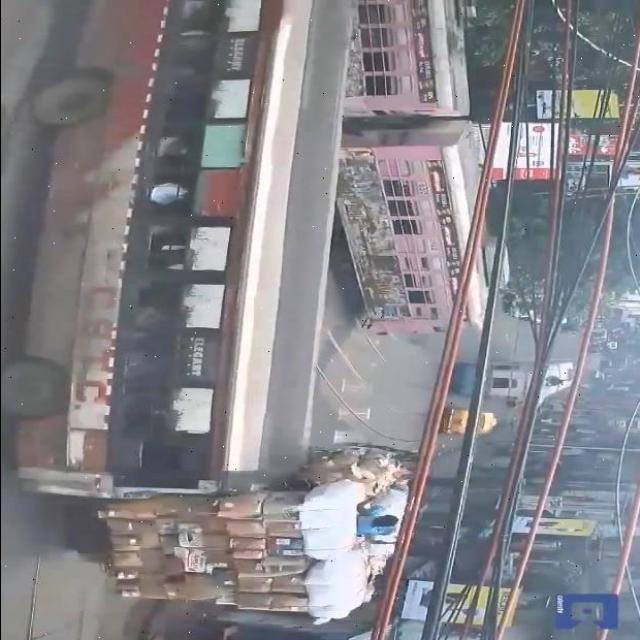accident: (0, 411, 460, 621)
